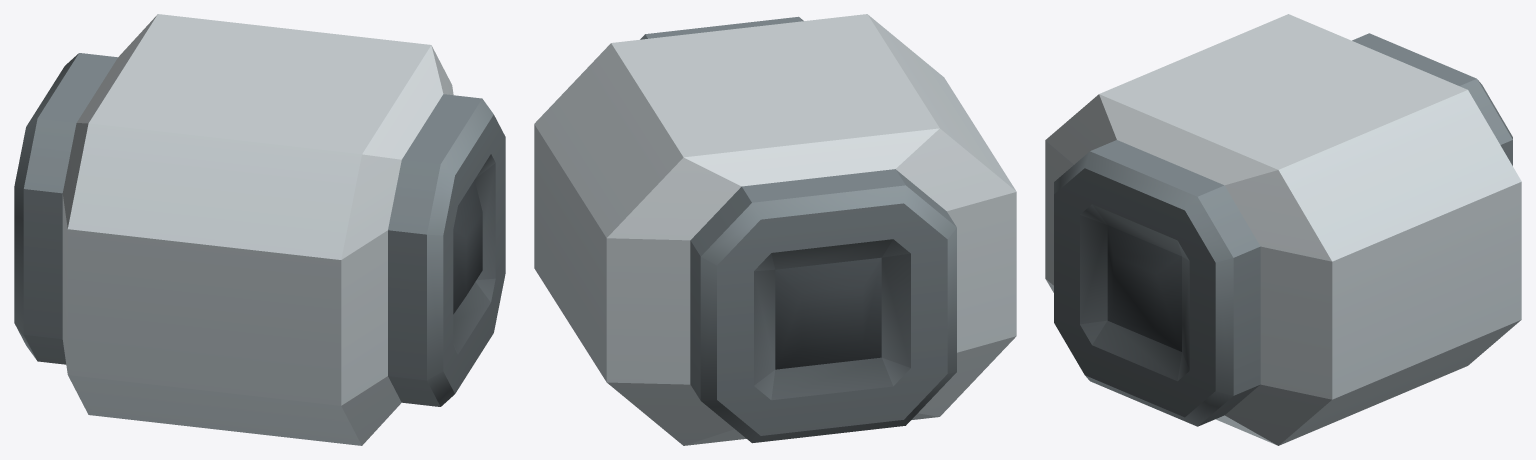
File: tunnel_diagonal_short_a.glb
The picture shows the model from 3 angles, left to right: view 1: azimuth 30°, elevation 25°; view 2: azimuth 150°, elevation 25°; view 3: azimuth 270°, elevation 25°; orthographic projection. The views are drawn at different scales.
Parts seen in each view (by area): view 1: tunnel_diagonal_short_A; view 2: tunnel_diagonal_short_A; view 3: tunnel_diagonal_short_A.
Boxes of the visible parts, x1,y1,x2,y2 form: tunnel_diagonal_short_A: (14,14,505,445); tunnel_diagonal_short_A: (534,14,1016,445); tunnel_diagonal_short_A: (1045,14,1521,445).
Bounding box in the file's own units: 2.82 × 1.8 × 2.82.
1 material, 1 textured.
